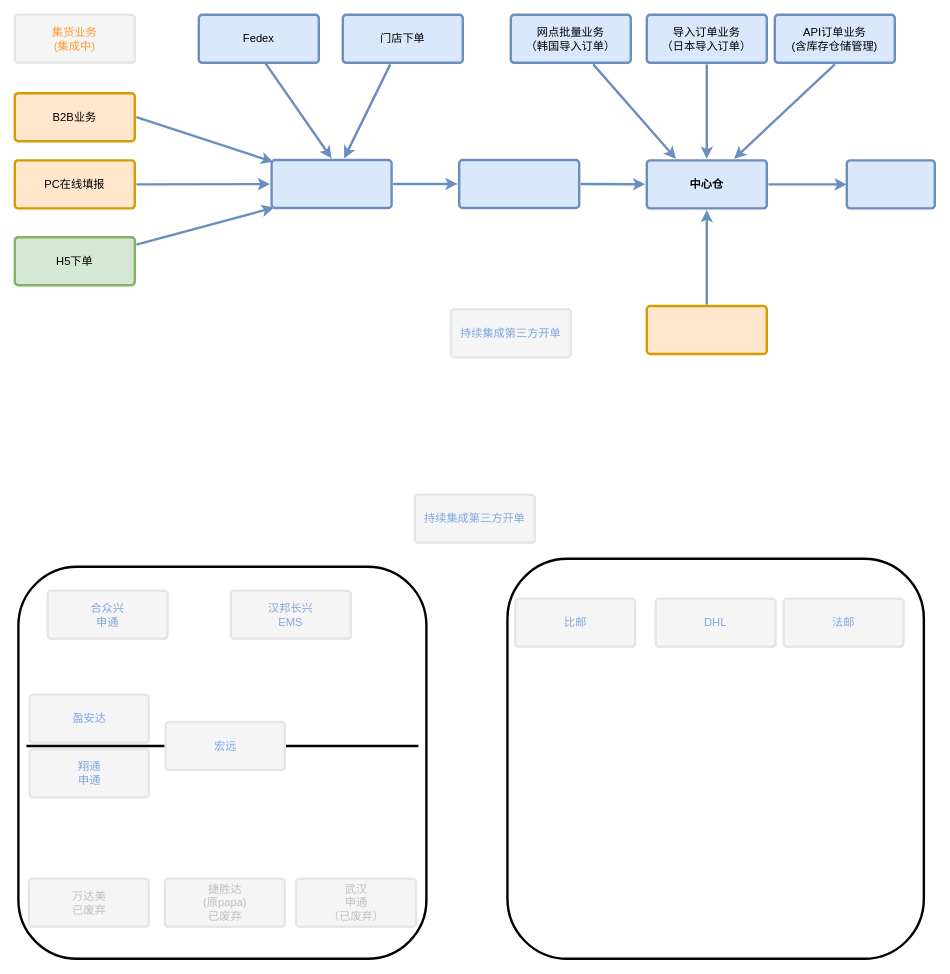
Some shapes in this 950 by 974 pixel diagram are drawn without their labels. Each missing label, with the centre of its shape:
一件代发: point 706,329
中转门店: point 519,183
发运回国: point 890,184
门店: point 331,183
